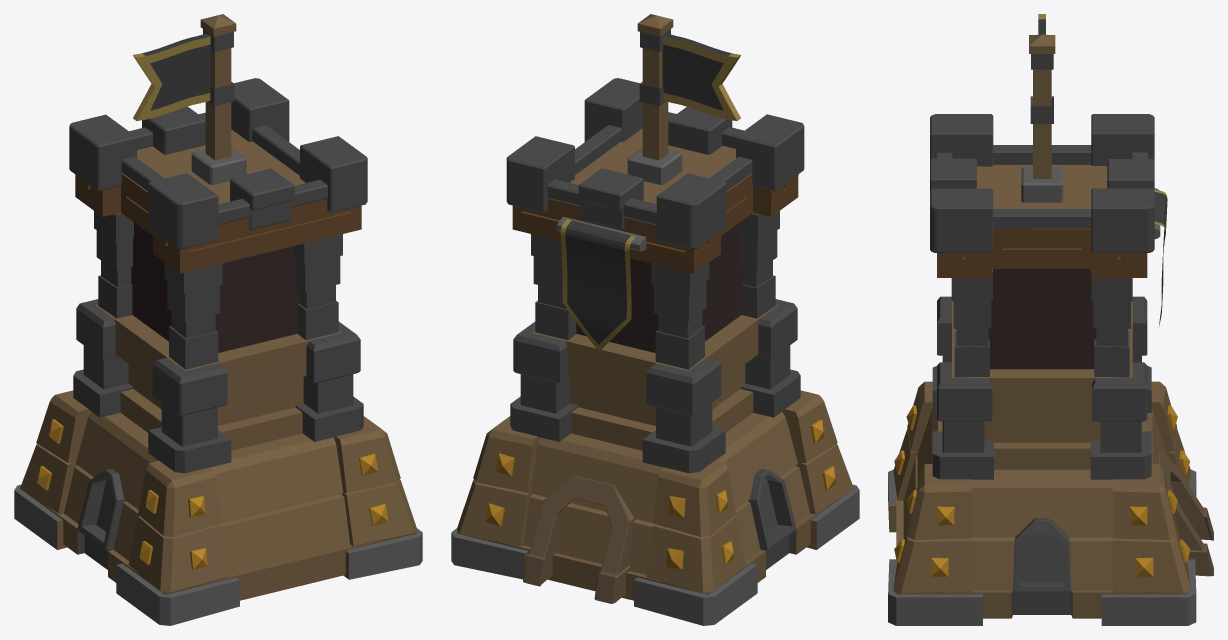
Rendered from UnityTower.fbx.
The picture shows the model from 3 angles, left to right: view 1: azimuth 30°, elevation 25°; view 2: azimuth 150°, elevation 25°; view 3: azimuth 270°, elevation 25°; orthographic projection.
Parts seen in each view (by area): view 1: Main alt, MaintAltCorner.002, Pillar High, Pillar LowerMid, Pillar HighMid, Tower LowerMid, Tower High, Tower HighMid, Flag Top, Pillar Flag, Flag Stone Top; view 2: MaintAltCorner.002, Pillar High, Main alt, Pillar LowerMid, Tower LowerMid, Pillar HighMid, Tower High, Flag Front, BigDoor, Tower HighMid, Flag Top, Pillar Flag (+1 smaller); view 3: MaintAltCorner.002, Main alt, Pillar High, Pillar LowerMid, Tower LowerMid, Tower High, Tower HighMid, Pillar HighMid, Pillar Flag, BigDoor, Flag Stone Top, Flag Front.
Boxes of the visible parts, box(x1,y1,x2,y2) form: Main alt: box(25, 412, 416, 600); MaintAltCorner.002: box(14, 390, 422, 625); Pillar High: box(69, 78, 367, 249); Pillar LowerMid: box(73, 299, 363, 473); Pillar HighMid: box(94, 211, 342, 369); Tower LowerMid: box(96, 305, 340, 450); Tower High: box(75, 129, 361, 273); Tower HighMid: box(131, 222, 299, 352); Flag Top: box(133, 33, 211, 120); Pillar Flag: box(200, 14, 236, 160); Flag Stone Top: box(191, 148, 246, 184); MaintAltCorner.002: box(451, 390, 859, 625); Pillar High: box(506, 78, 804, 249); Main alt: box(457, 412, 848, 600); Pillar LowerMid: box(510, 299, 800, 473); Tower LowerMid: box(533, 305, 777, 450); Pillar HighMid: box(531, 211, 779, 369); Tower High: box(512, 128, 798, 273); Flag Front: box(560, 219, 635, 351); BigDoor: box(523, 476, 635, 603); Tower HighMid: box(576, 222, 742, 352); Flag Top: box(662, 33, 740, 120); Pillar Flag: box(637, 14, 673, 160); MaintAltCorner.002: box(888, 381, 1196, 625); Main alt: box(896, 409, 1187, 618); Pillar High: box(930, 114, 1154, 252); Pillar LowerMid: box(932, 296, 1151, 479); Tower LowerMid: box(952, 301, 1132, 469); Tower High: box(937, 164, 1147, 277); Tower HighMid: box(988, 269, 1096, 369); Pillar HighMid: box(951, 269, 1132, 377); Pillar Flag: box(1029, 34, 1055, 178); BigDoor: box(1158, 452, 1213, 576); Flag Stone Top: box(1021, 167, 1063, 202); Flag Front: box(1154, 189, 1167, 327).
Size of the model in its own units: 380 by 723 by 405.
